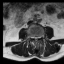CCS_stenosis: (35, 34, 37, 42)
LFS_stenosis: (38, 34, 40, 39)
LLS_normal: (37, 34, 38, 41)
RFS_stenosis: (31, 34, 33, 40)
RLS_normal: (33, 35, 35, 40)
